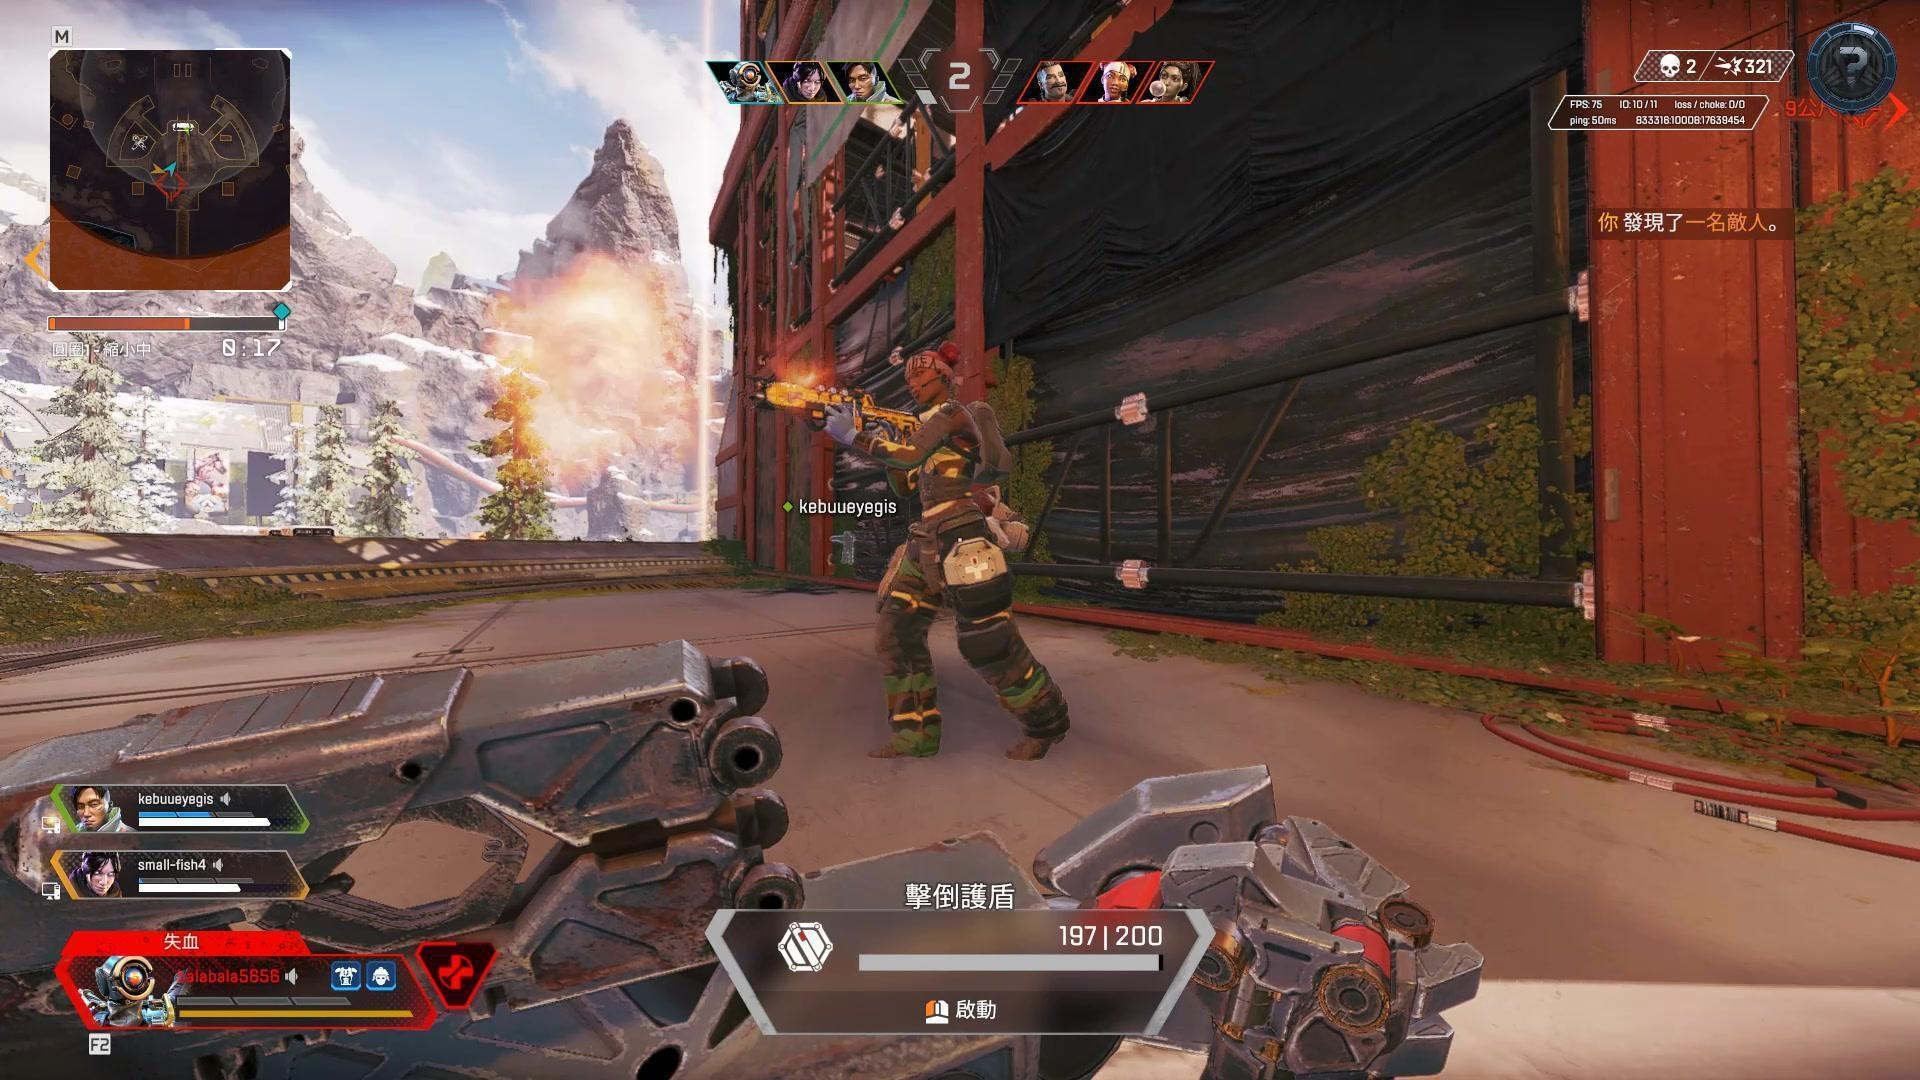avatar: (865, 345, 1070, 767)
